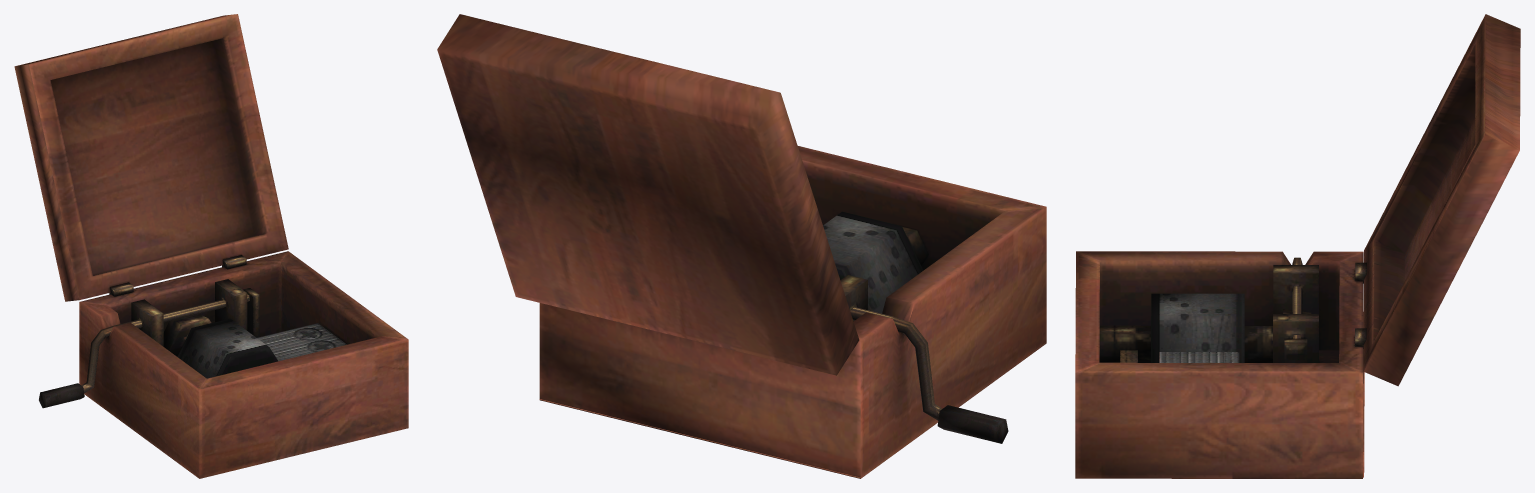
The model's file is music_box.obj.
3 views of the same model, side by side, from view 1: azimuth 30°, elevation 25°; view 2: azimuth 150°, elevation 25°; view 3: azimuth 270°, elevation 25° (orthographic). The views are drawn at different scales.
Size of the model in its own units: 0.3149 by 0.3166 by 0.3715.
Materials: 1 (1 with a texture image).
